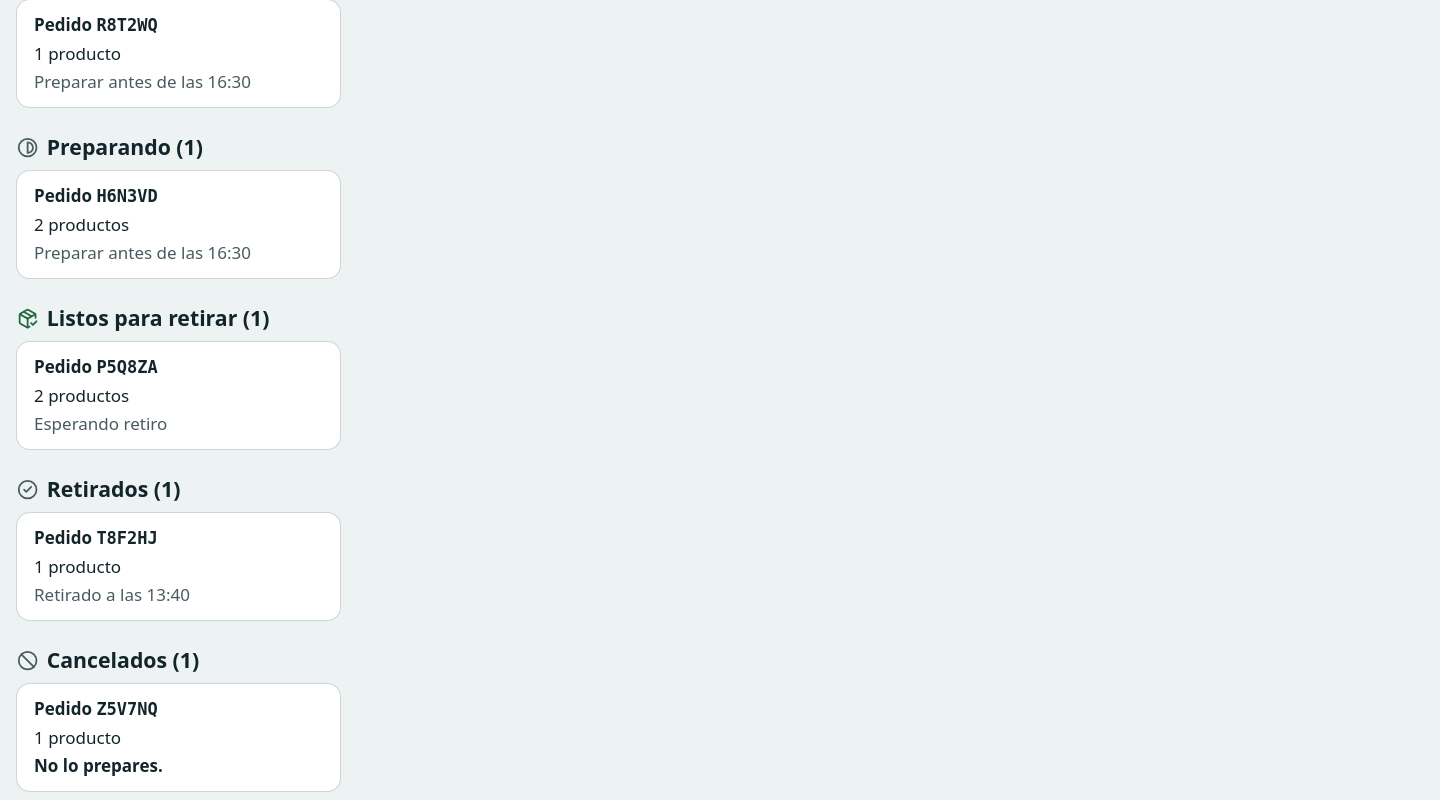
Test case: El campo del código › con menos de 6 números no envía: el mensaje y el foco en el campo
(page scrolled)
Expected: the heading "Listos para retirar (1)" is shown, [47,303,270,332]
Click the button "Pedido P5Q8ZA 2 productos Esperando retiro" at (63, 367), box [17,342,340,449]
(page scrolled)
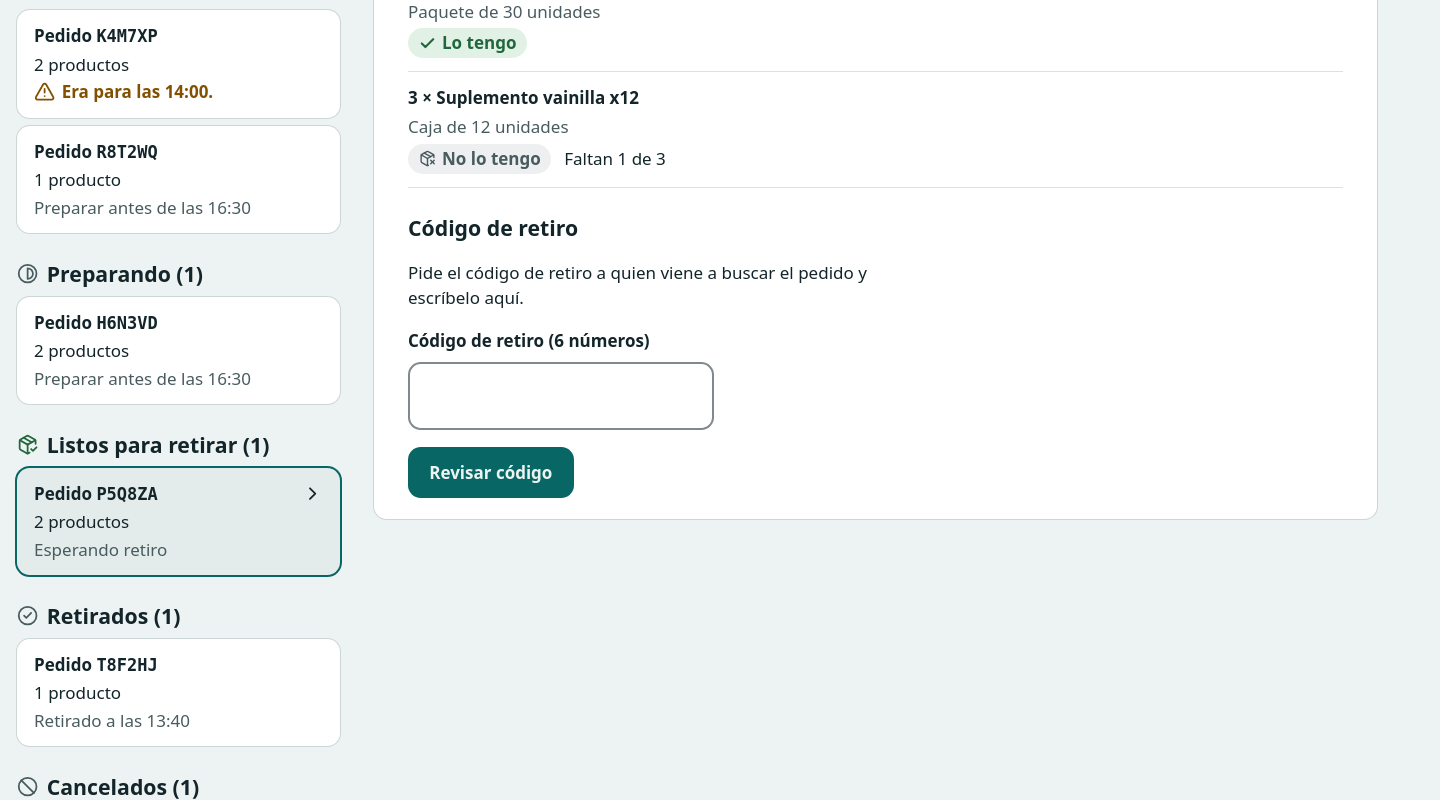
Type "4821" into the field labelled "Código de retiro (6 números)" at (561, 396), box [408,362,714,430]
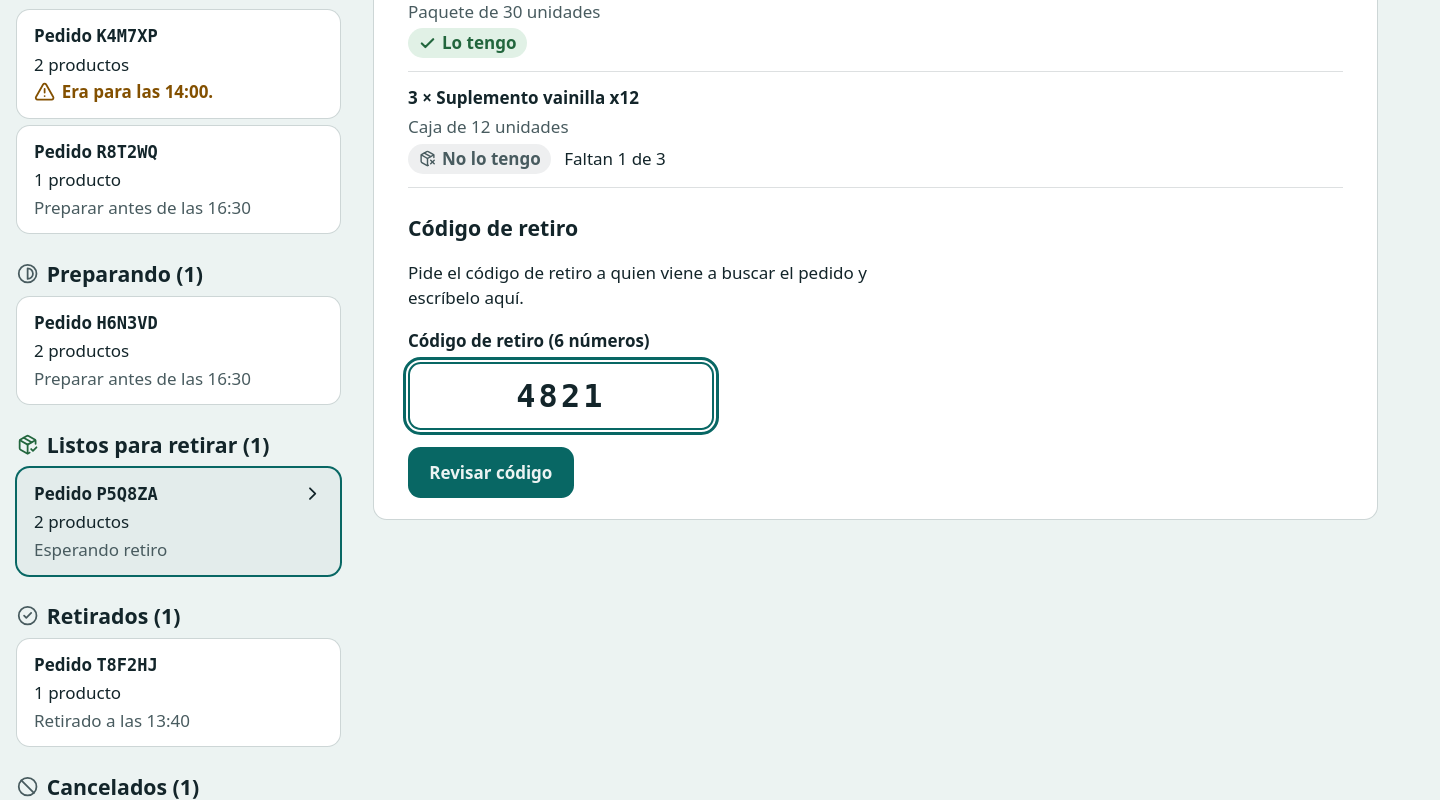
Click the button "Revisar código" at (491, 472), box [408,447,574,498]
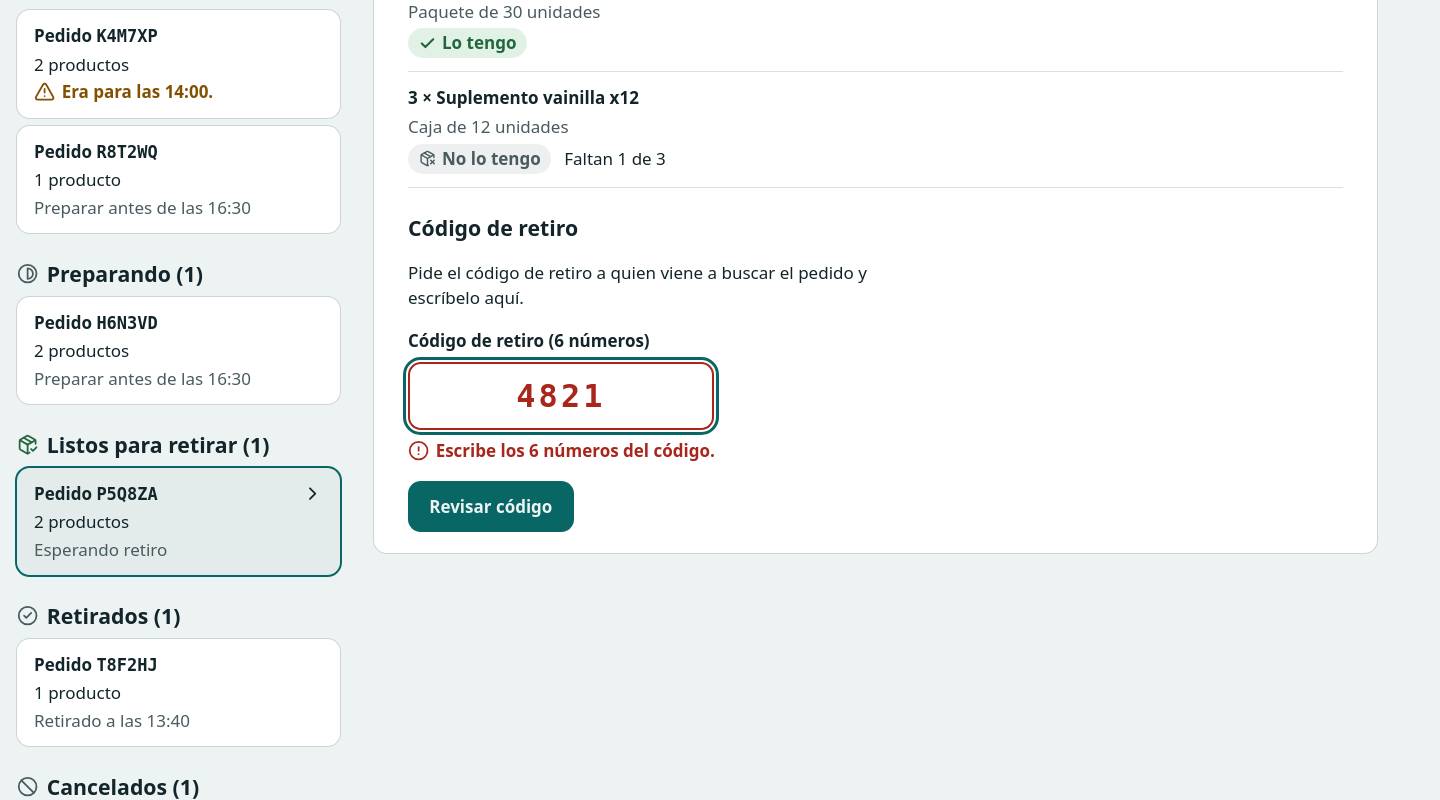
Result: the text "Escribe los 6 números del código." is shown at [436,438,715,464]
